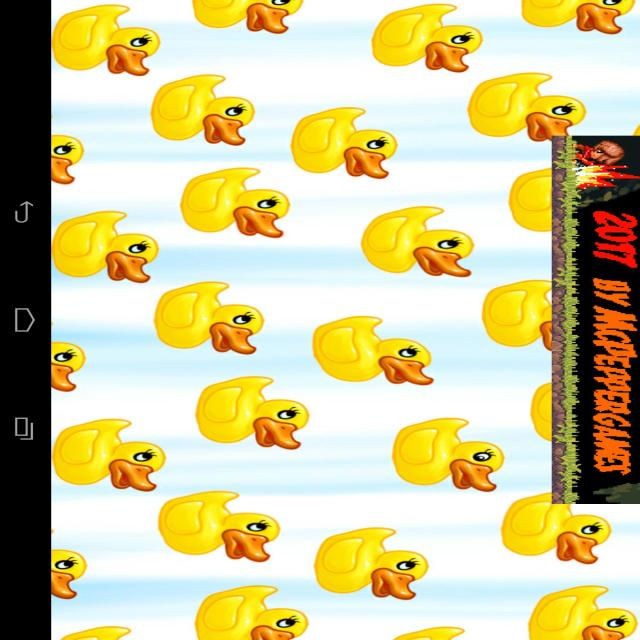image: (51, 0, 640, 639)
